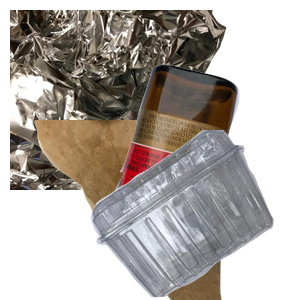glass: (113, 62, 300, 242)
metal: (10, 10, 229, 190)
plastic: (88, 130, 300, 300)
trash: (32, 120, 248, 300)
